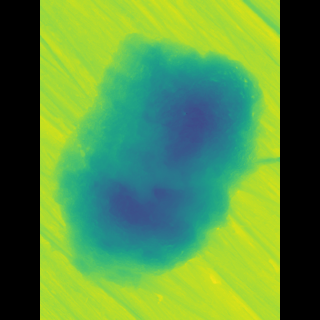Loch: (78, 34, 240, 303)
